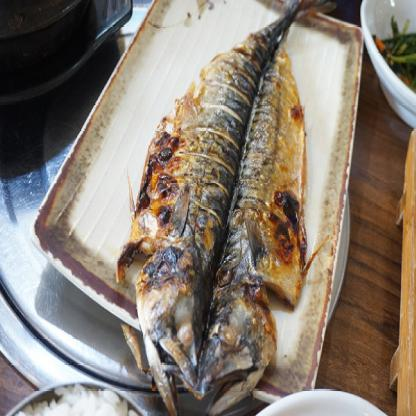Peixe: (122, 0, 317, 416)
